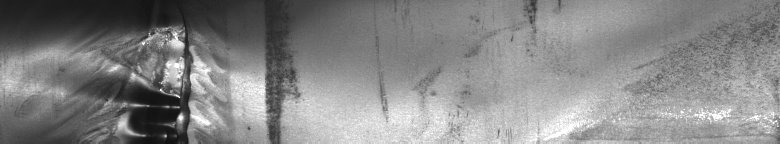ke: (90, 20, 300, 136)
